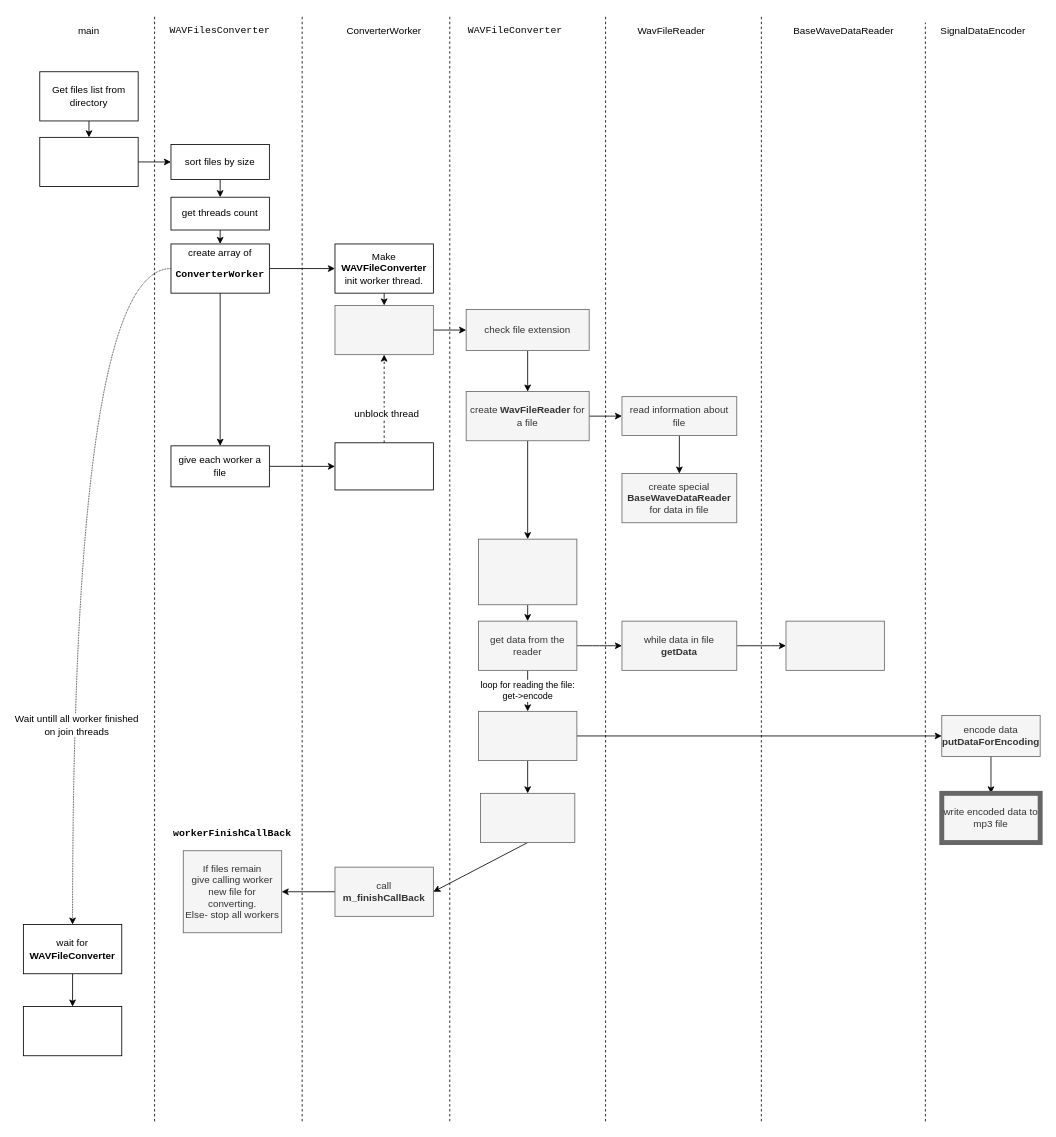
Image size: 1056x1137. Some labels were removed from this diagram. The centre of each missing label's shape, as x and y in pixels:
"Block on waiting for file in workerFunction ." goes at [383,330].
"create SignalDataEncoder with special values and output file name" goes at [527,571].
"finish encoding file" goes at [527,818].
"Finish the program" goes at [72,1031].
"Get WAVFilesConverter instance" goes at [88,162].
"put data to the encoder" goes at [527,736].
"Read data from file to in32 array getData" goes at [834,645].
"start converting file" goes at [383,466].
